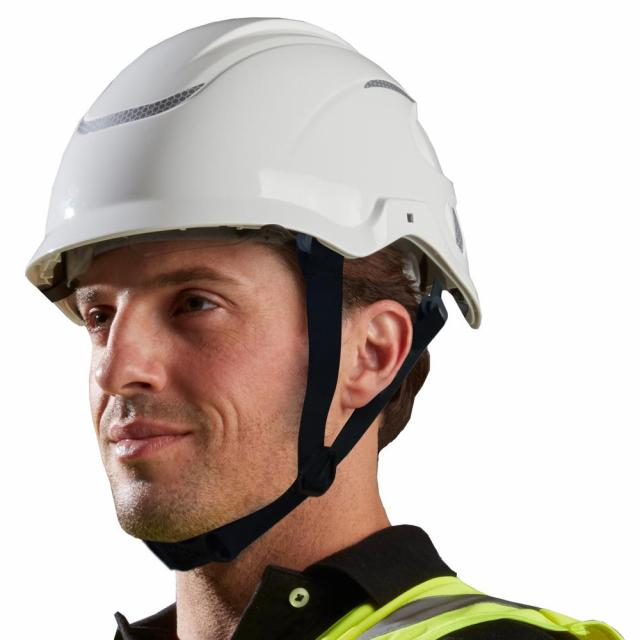Reflective-Jacket: (283, 557, 640, 640)
Safety-Helmet: (31, 13, 487, 331)
